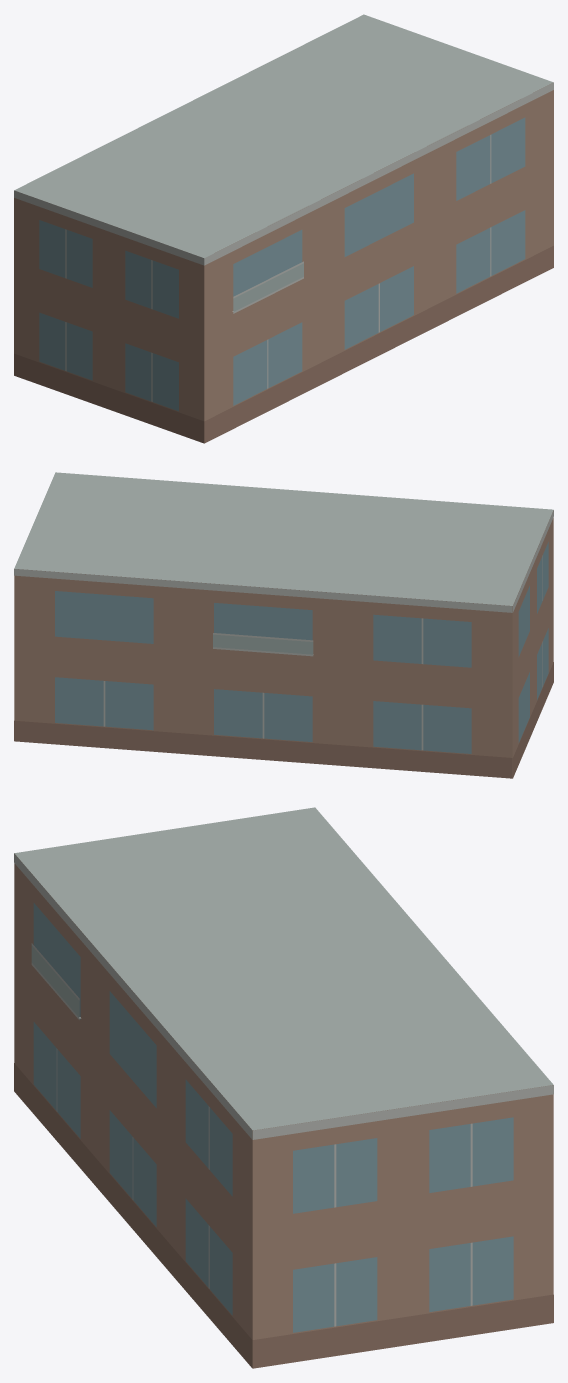
File: survey-upis-32826427.glb
3 renders of one model, top to bottom at view 1: azimuth 30°, elevation 25°; view 2: azimuth 150°, elevation 25°; view 3: azimuth 270°, elevation 25°, orthographic. The views are drawn at different scales.
Parts seen in each view (by area): view 1: survey-upis-32826427.tmp; view 2: survey-upis-32826427.tmp; view 3: survey-upis-32826427.tmp.
Part boxes in pixels (bbox=[...]): survey-upis-32826427.tmp: bbox=[14, 14, 553, 443]; survey-upis-32826427.tmp: bbox=[14, 472, 553, 778]; survey-upis-32826427.tmp: bbox=[14, 807, 553, 1368].
Bounding box in the file's own units: 17.77 × 6.1 × 12.54.
